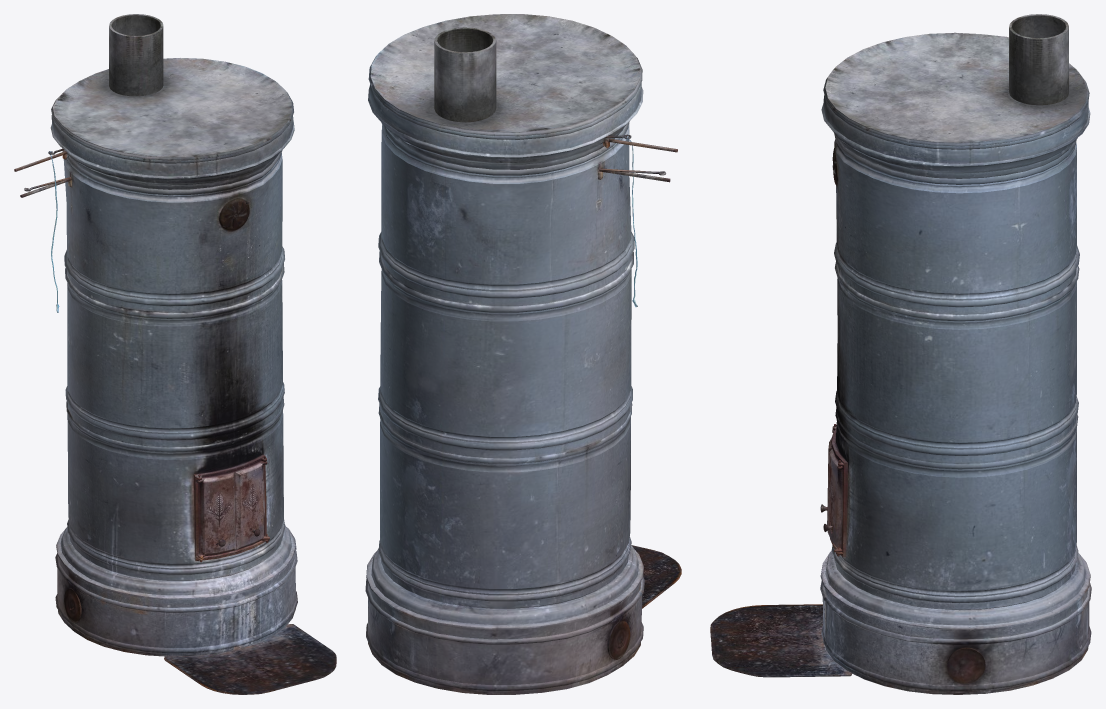
The model's file is scandinavian_masonry_heater.glb.
3 views of the same model, side by side, from view 1: azimuth 30°, elevation 25°; view 2: azimuth 150°, elevation 25°; view 3: azimuth 270°, elevation 25° (orthographic). The views are drawn at different scales.
Parts seen in each view (by area): view 1: scandinavian_masonry_heater; view 2: scandinavian_masonry_heater; view 3: scandinavian_masonry_heater.
Boxes of the visible parts, bbox=[...] form: scandinavian_masonry_heater: bbox=[14, 14, 336, 694]; scandinavian_masonry_heater: bbox=[365, 14, 681, 694]; scandinavian_masonry_heater: bbox=[710, 14, 1091, 694].
Bounding box in the file's own units: 1.17 × 2.36 × 1.34.
1 material, 1 textured.
